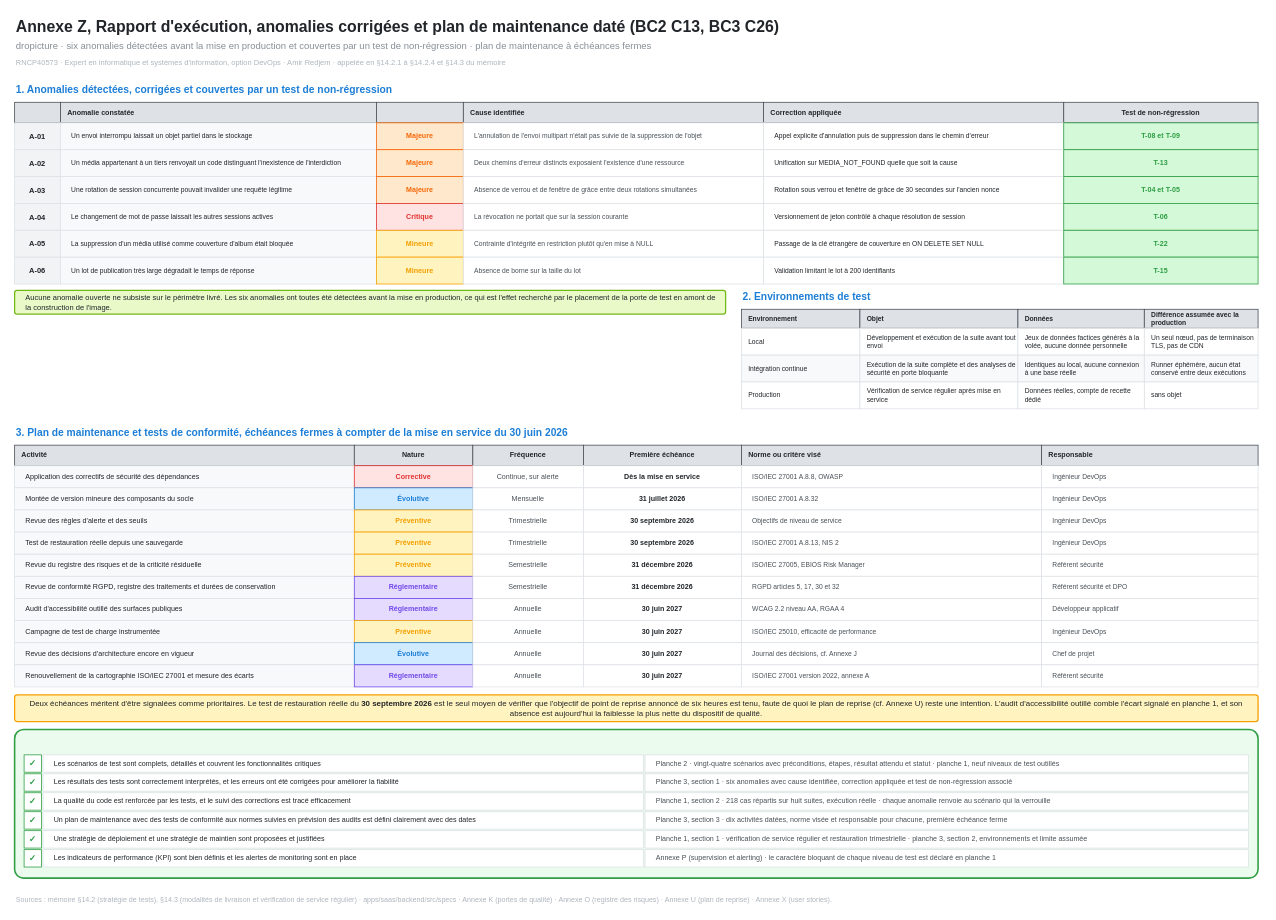
Some shapes in this 1276 by 920 pixel diagram are drawn without their labels. The box of each missing label's shape, as (x1, y1, x2, y2) in pixels:
CRITÈRES DU RÉFÉRENTIEL COUVERTS: (13, 728, 1258, 878)
Réf.: (14, 102, 60, 123)
Sévérité: (376, 102, 463, 123)
